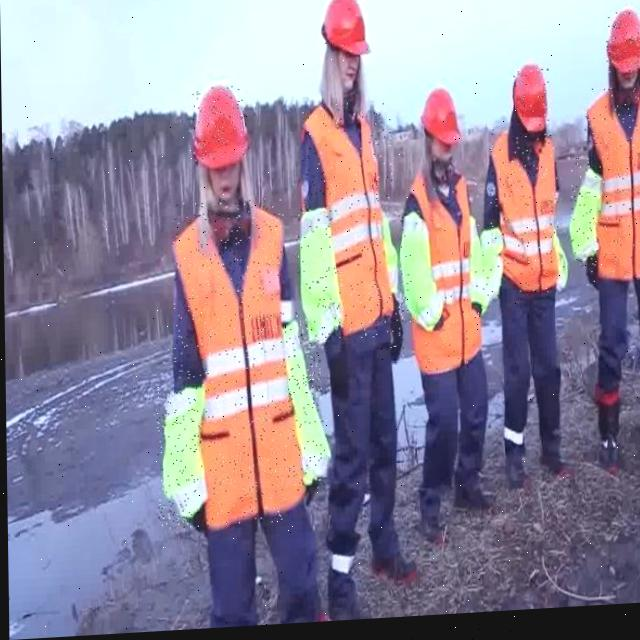Helmet: (191, 85, 250, 173), (324, 0, 370, 61), (513, 69, 549, 141), (421, 91, 461, 152), (606, 15, 640, 82)
No-Glove: (160, 385, 208, 525), (397, 213, 445, 337)
Safety-Vest: (171, 205, 307, 533), (300, 102, 398, 342), (401, 171, 484, 380), (491, 136, 563, 301), (586, 91, 640, 289)
